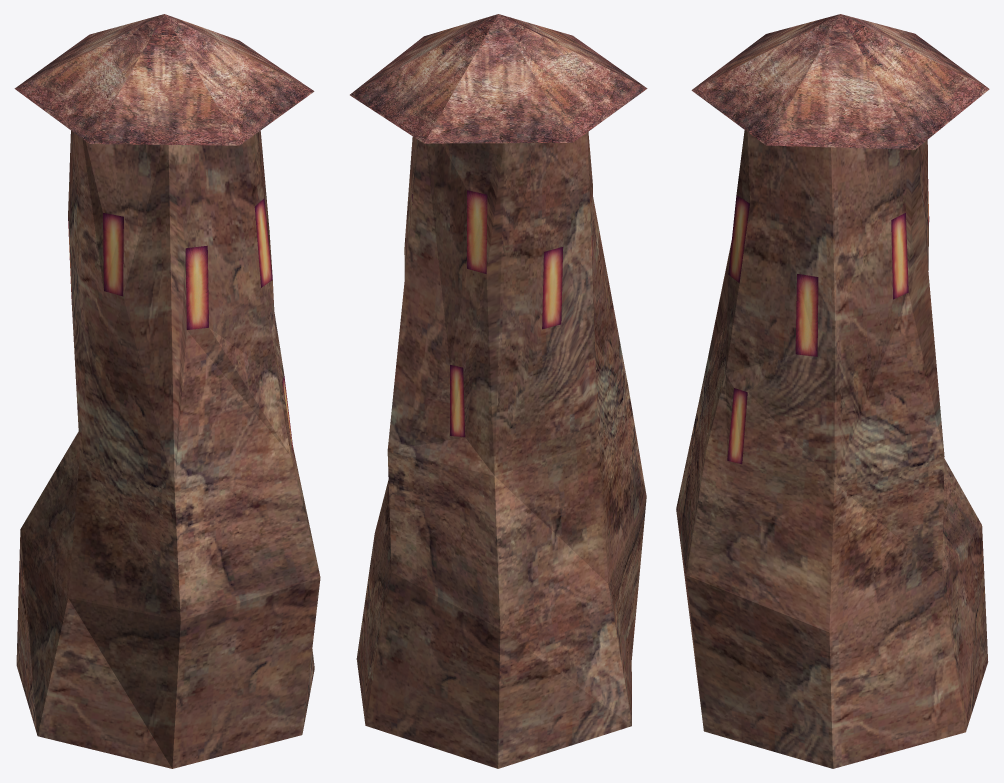
Rendered from thm_dath_night_sister_guard_tower_s01_l3.fbx.
3 views of the same model, side by side, from view 1: azimuth 30°, elevation 25°; view 2: azimuth 150°, elevation 25°; view 3: azimuth 270°, elevation 25° (orthographic).
Parts seen in each view (by area): view 1: mesh_node; view 2: mesh_node; view 3: mesh_node.
Boxes of the visible parts, x1=… form: mesh_node: x1=14, y1=14, x2=320, y2=768; mesh_node: x1=350, y1=14, x2=647, y2=768; mesh_node: x1=676, y1=14, x2=989, y2=768.
Size of the model in its own units: 6.96 by 16.5 by 6.86.
Materials: 3 (3 with a texture image).
